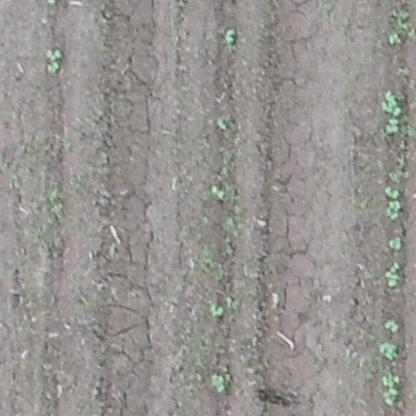vc: (381, 260, 402, 289), (383, 90, 403, 116), (379, 341, 401, 364), (210, 372, 229, 392), (379, 119, 399, 137), (384, 202, 402, 222), (384, 317, 401, 334), (384, 389, 399, 408), (381, 373, 401, 386), (211, 184, 226, 201), (224, 25, 236, 45), (389, 236, 403, 253), (210, 303, 226, 317), (385, 186, 403, 198), (45, 49, 62, 59), (44, 62, 61, 72), (215, 119, 227, 130)
